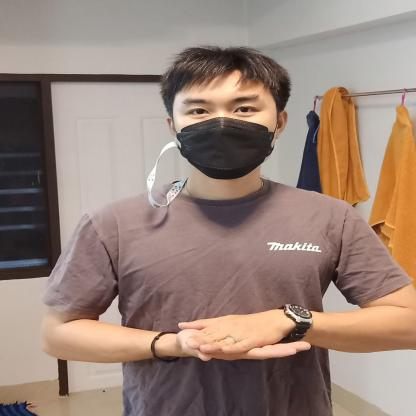Love: (150, 280, 328, 376)
